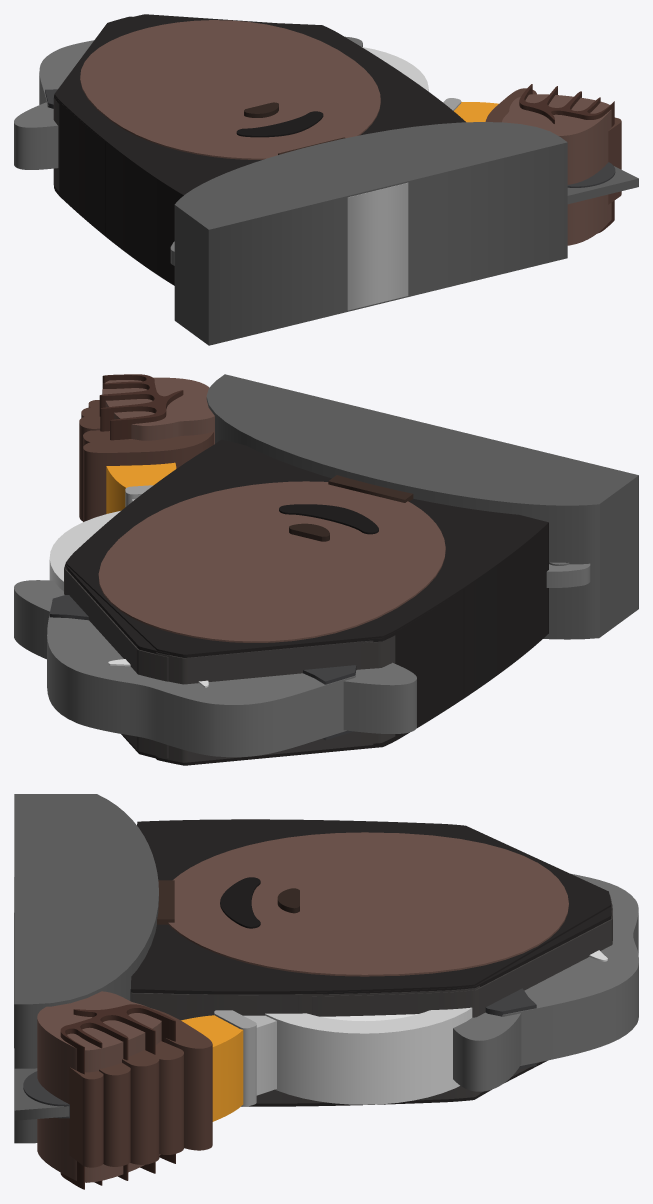
The model's file is emoji_u1f575_1f3ff_200d_2640.glb.
The picture shows the model from 3 angles, top to bottom: view 1: azimuth 30°, elevation 25°; view 2: azimuth 150°, elevation 25°; view 3: azimuth 270°, elevation 25°; orthographic projection. The views are drawn at different scales.
Visible parts, largest first — view 1: emoji_u1f575_1f3ff_200d_2640; view 2: emoji_u1f575_1f3ff_200d_2640; view 3: emoji_u1f575_1f3ff_200d_2640.
Boxes of the visible parts, <box> form: emoji_u1f575_1f3ff_200d_2640: <box>14,14,638,345</box>; emoji_u1f575_1f3ff_200d_2640: <box>14,374,638,765</box>; emoji_u1f575_1f3ff_200d_2640: <box>14,794,638,1189</box>.
Bounding box in the file's own units: 0.0328 × 0.0084 × 0.0334.
